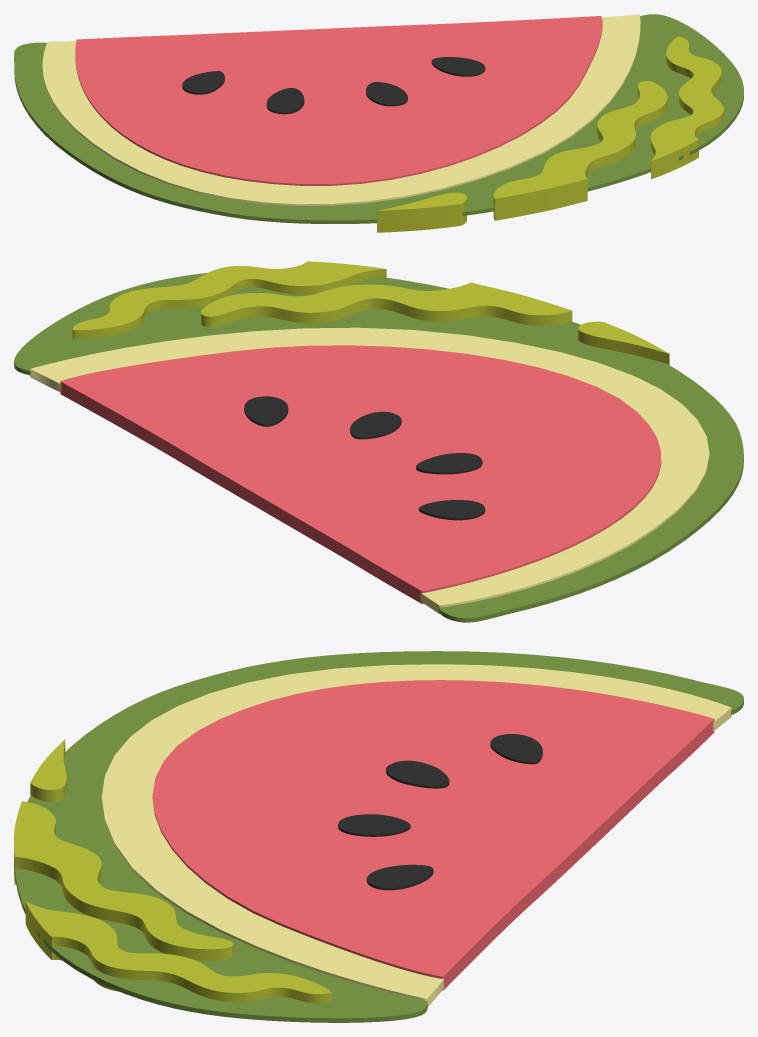
Rendered from emoji_u1f349.glb.
3 views of the same model, one above another, from view 1: azimuth 30°, elevation 25°; view 2: azimuth 150°, elevation 25°; view 3: azimuth 270°, elevation 25° (orthographic). The views are drawn at different scales.
Parts seen in each view (by area): view 1: emoji_u1f349; view 2: emoji_u1f349; view 3: emoji_u1f349.
Part boxes in pixels (x1,y1,x2,y2): emoji_u1f349: (14, 14, 743, 232); emoji_u1f349: (14, 261, 743, 622); emoji_u1f349: (14, 651, 743, 1022).
Bounding box in the file's own units: 0.034 × 0.0012 × 0.0286.
